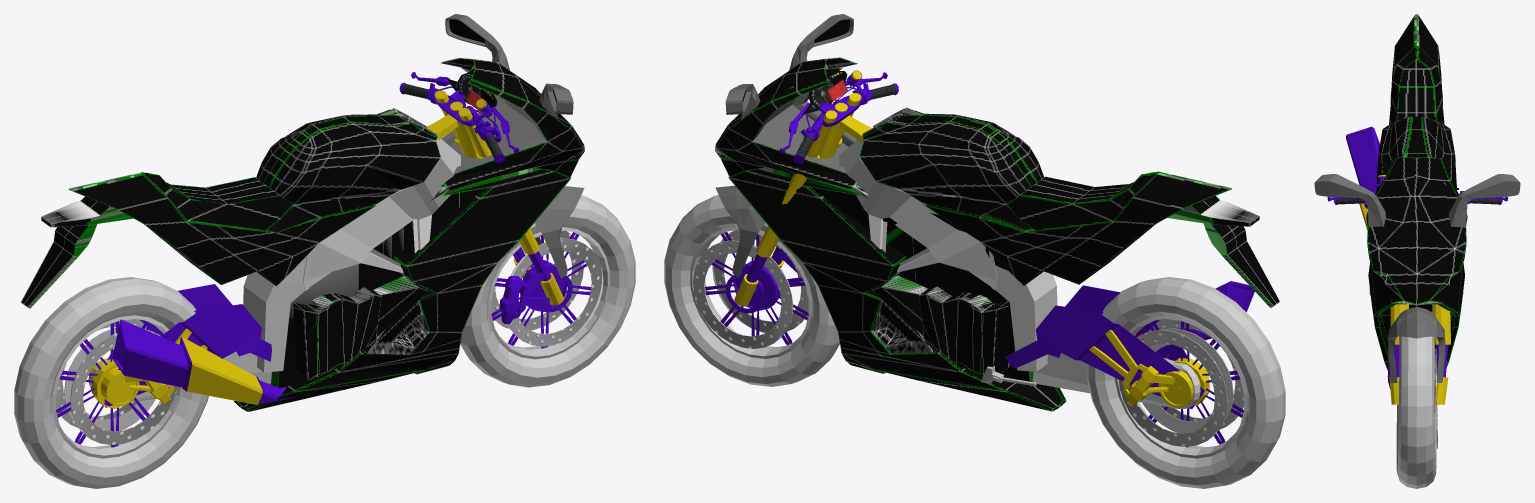
Rendered from Moto_Optimized.fbx.
The picture shows the model from 3 angles, left to right: view 1: azimuth 30°, elevation 25°; view 2: azimuth 150°, elevation 25°; view 3: azimuth 270°, elevation 25°; orthographic projection. The views are drawn at different scales.
Parts seen in each view (by area): view 1: Body, Steer; view 2: Body, Steer; view 3: Body, Steer.
Part boxes in pixels (x1,y1,x2,y2): Body: (14,14,584,488); Steer: (399,72,635,387); Body: (715,14,1285,488); Steer: (664,70,898,386); Body: (1314,14,1520,373); Steer: (1327,175,1508,488).
Size of the model in its own units: 1089 by 576 by 366.
